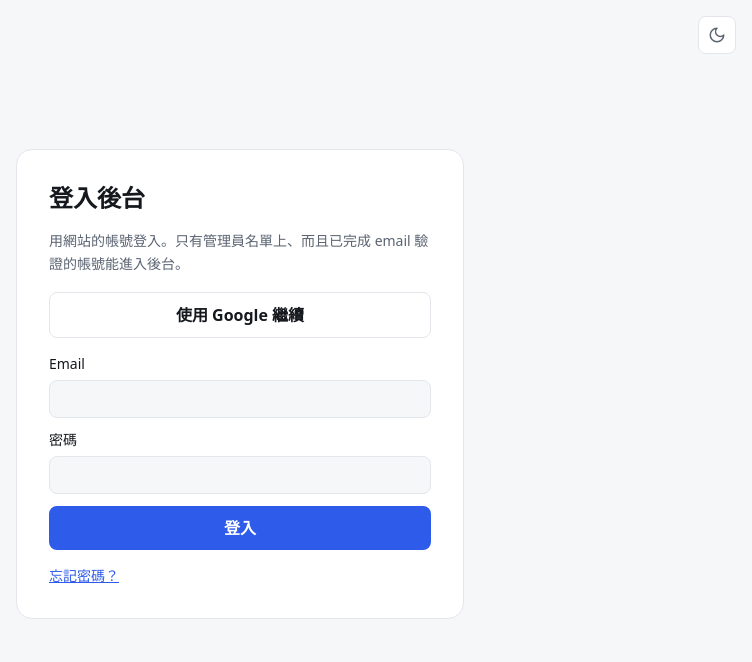
Test: the login page › says why when the account may not come in
Type "someone@example.com" into the field labelled "Email". click: x=240, y=399
box: [49, 380, 431, 418]
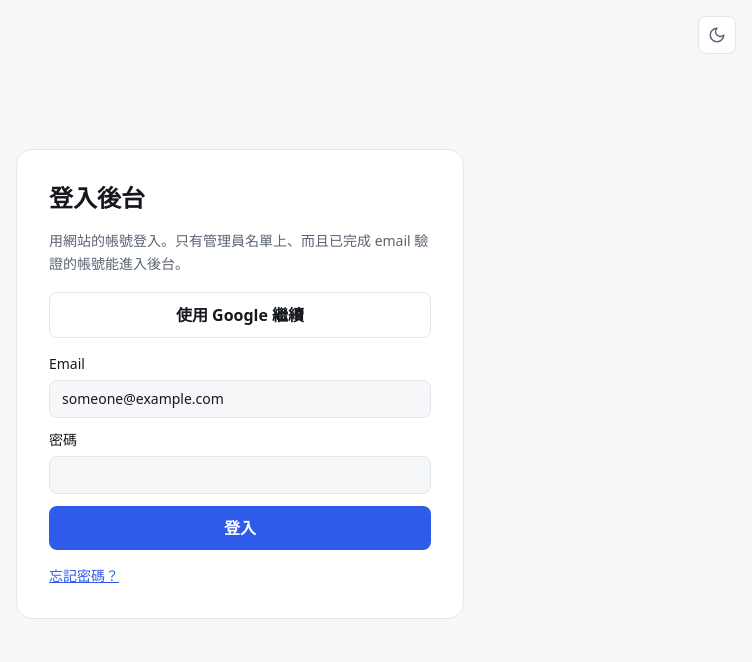
Type "whatever pw" into the password field labelled "密碼". click: x=240, y=475
box: [49, 456, 431, 494]
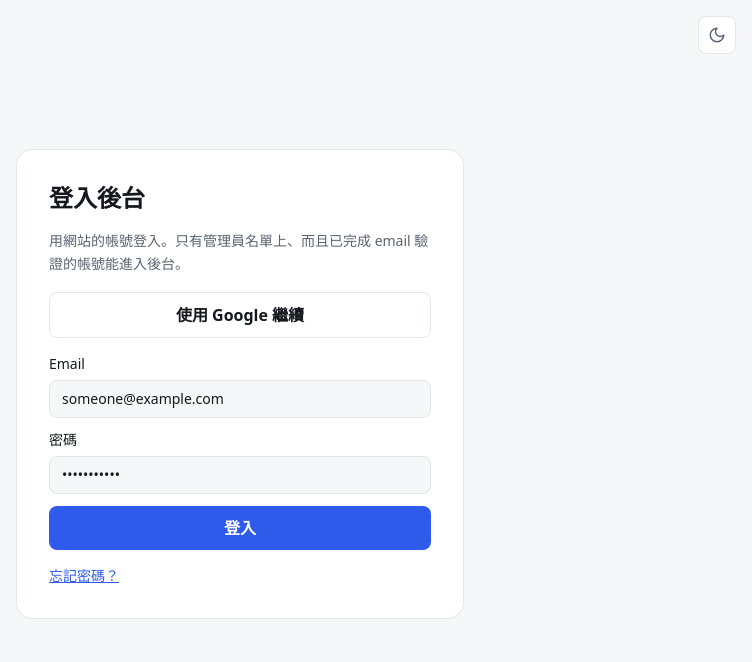
Click the button "登入". click: x=240, y=528
box: [49, 506, 431, 550]
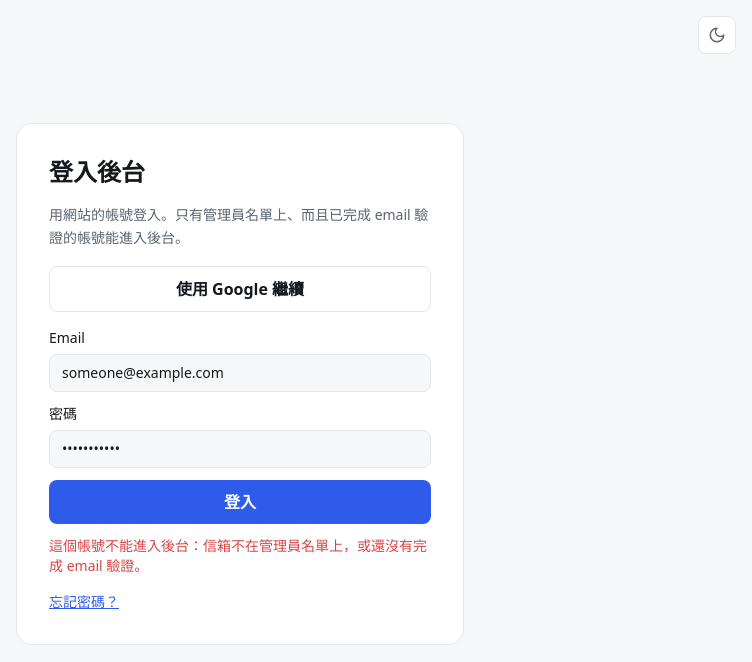
Result: the message shows "不能進入後台" at [49, 536, 427, 575]
